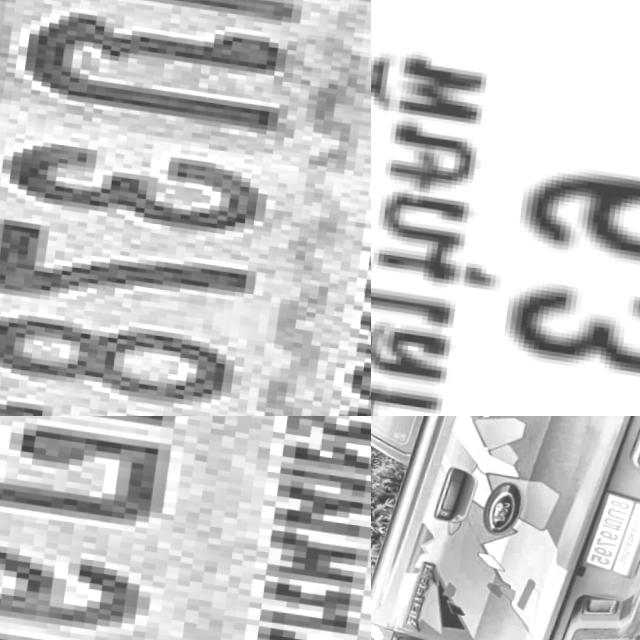license-plate: (0, 0, 371, 416), (371, 0, 640, 416), (0, 416, 371, 640), (578, 479, 640, 573)
